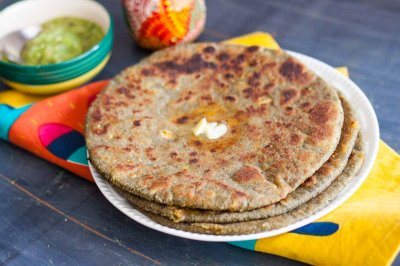aloo_paratha: (86, 39, 360, 234)
